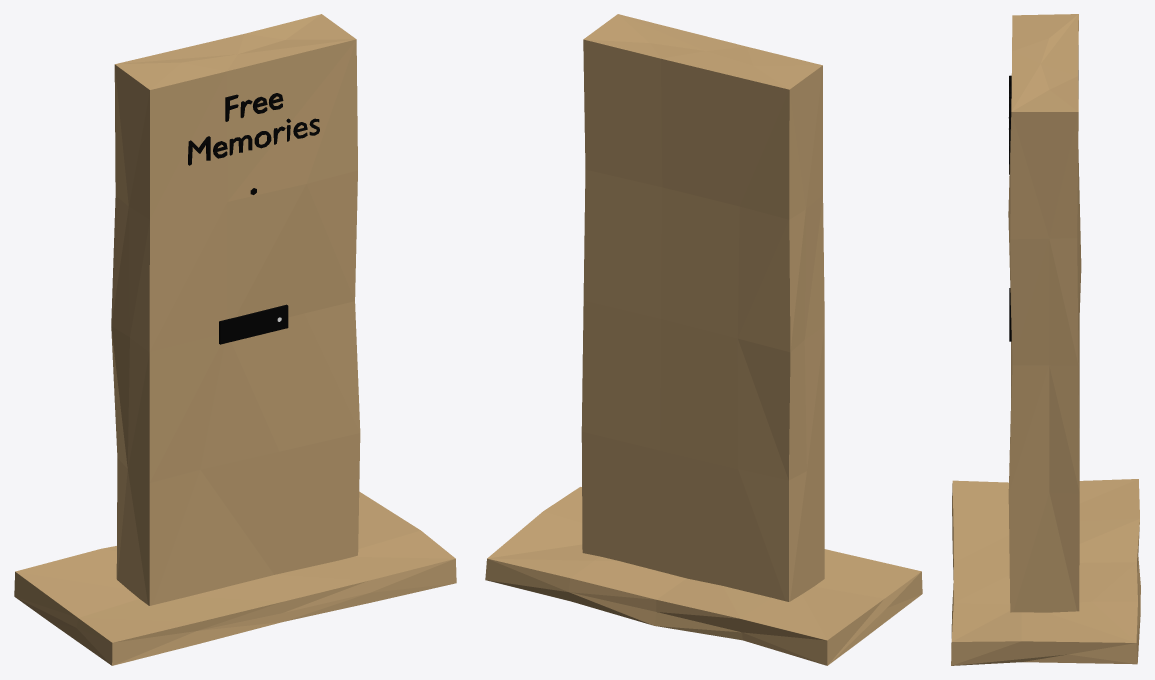
File: memomart.glb
3 renders of one model, left to right at view 1: azimuth 30°, elevation 25°; view 2: azimuth 150°, elevation 25°; view 3: azimuth 270°, elevation 25°, orthographic. The views are drawn at different scales.
Visible parts, largest first — view 1: memomart; view 2: memomart; view 3: memomart.
Part boxes in pixels (left/top/right/bottom): memomart: left=14, top=14, right=456, bottom=665; memomart: left=485, top=14, right=922, bottom=665; memomart: left=951, top=14, right=1140, bottom=665.
Bounding box in the file's own units: 14.29 × 21.31 × 7.
Materials: 1 (1 with a texture image).
